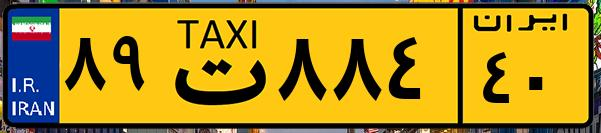0: (525, 38, 570, 115)
4: (385, 28, 445, 110), (475, 38, 525, 113)
8: (270, 28, 330, 110), (330, 28, 385, 110), (57, 26, 110, 100)
9: (110, 28, 158, 98)
ت: (158, 12, 270, 120)
